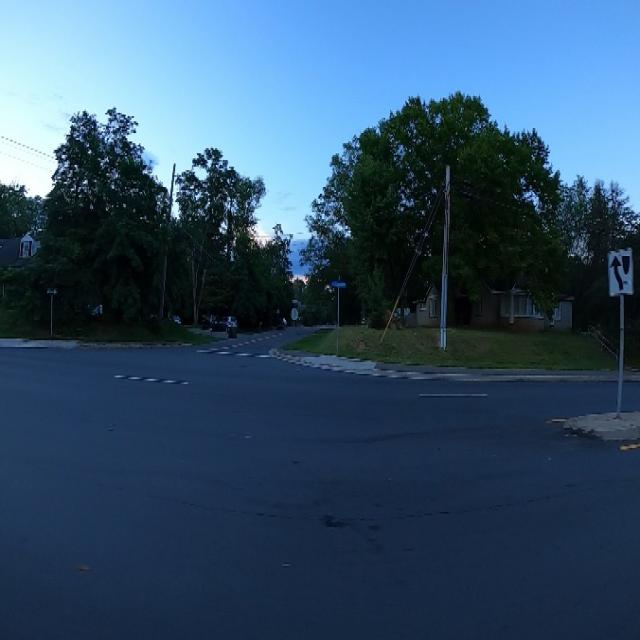cars: (204, 308, 221, 336), (222, 312, 237, 334)
